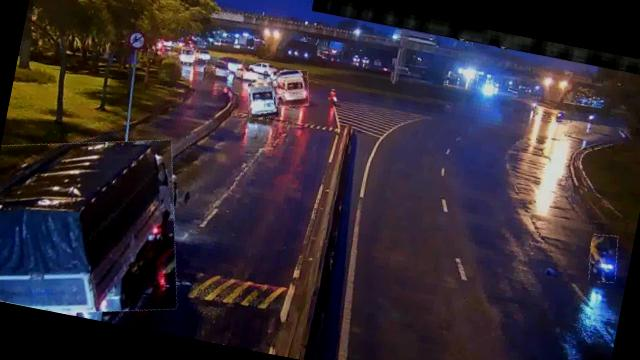Bike: (585, 233, 621, 284)
Bus: (269, 67, 313, 111), (243, 78, 286, 122), (205, 58, 232, 79)
Car: (205, 58, 232, 79)
Truck: (0, 117, 198, 332)
